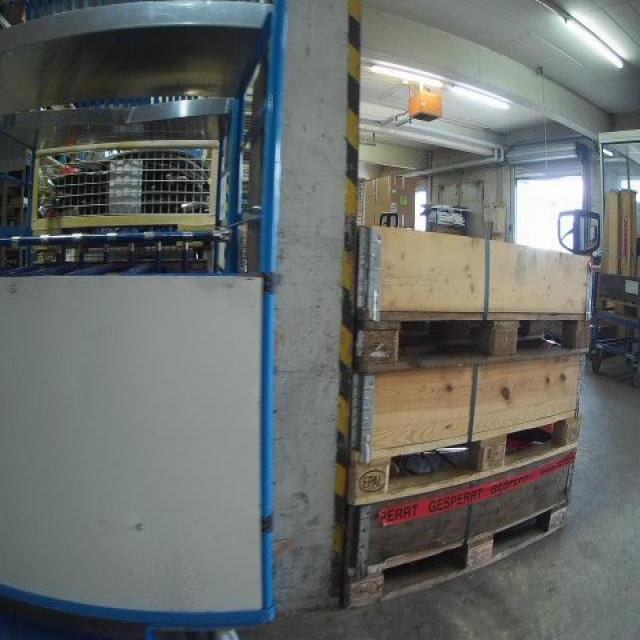pallet: (342, 498, 572, 614), (344, 410, 582, 510), (354, 311, 592, 375), (595, 295, 640, 322)
pallet_truck: (557, 211, 602, 255), (378, 208, 402, 228)
stillage: (23, 130, 222, 233)
